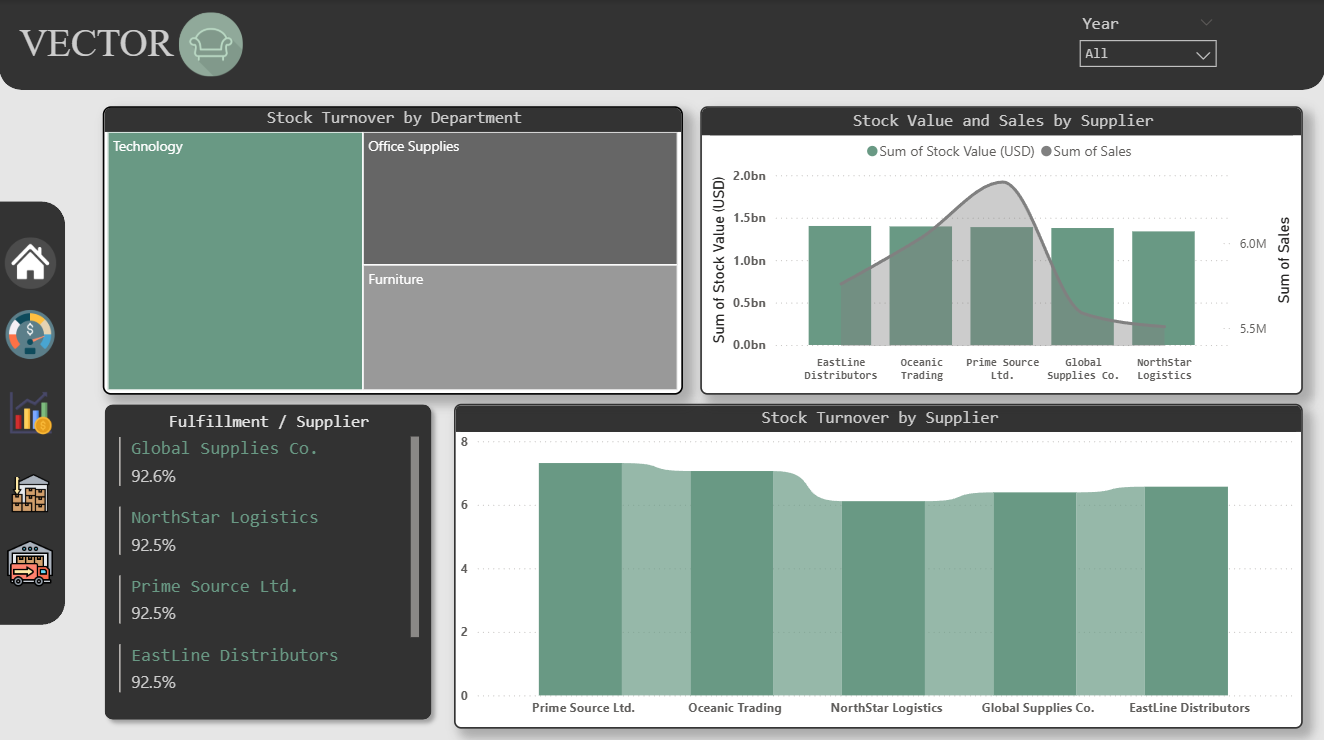

The page's visual inventory and layout, read from the dashboard file:
{"tool":"powerbi","page":{"name":"Inventory","canvas":[1280,720],"ordinal":3},"visuals":[{"type":"group","id":"g1","title":"Group 4","box":[0,0,1280,86.9],"z":0},{"type":"shape","box":[0,0,1280,86.9],"z":0,"group":"g5"},{"type":"shape","box":[0,194.2,63.9,409],"z":0,"group":"g4"},{"type":"group","id":"g2","title":"Group 3","box":[0,0,1280,86.9],"z":500,"group":"g1"},{"type":"textbox","box":[14.5,14.5,170.1,55.5],"z":1000,"group":"g5"},{"type":"image","box":[0.1,224.4,60.3,59.1],"z":1000,"group":"g4"},{"type":"shape","box":[93.3,381.5,333.4,322.5],"z":1000,"group":"g3"},{"type":"ribbonChart","title":"Stock Turnover by Supplier ","fields":{"Category":["Dim_Suppliers.Supplier Name"],"Y":["Measurments.Stock Turnover %"]},"box":[439.1,389.7,819.2,313.7],"z":1000},{"type":"lineClusteredColumnComboChart","title":"Stock Value and Sales by Supplier ","fields":{"Category":["Dim_Suppliers.Supplier Name"],"Y":["Sum(Fact_SC.Stock Value (USD))"],"Y2":["Sum(Fact_SC.Sales)"]},"box":[676.5,102.9,581.8,278.6],"z":2000},{"type":"image","box":[0.1,291.9,60.3,61.5],"z":2000,"group":"g4"},{"type":"treemap","title":"Stock Turnover by Department","fields":{"Group":["Dim_Product.Department","Dim_Product.Category"],"Values":["Measurments.Stock Turnover %"]},"box":[100.2,102.9,559.9,278.6],"z":3000},{"type":"image","box":[0.1,516.3,60.3,55.5],"z":3000,"group":"g4"},{"type":"group","id":"g3","title":"Group 5","box":[93.3,381.5,333.4,322.5],"z":4000},{"type":"image","box":[1.3,452.4,57.9,47.1],"z":4000,"group":"g4"},{"type":"group","id":"g4","title":"Group 1","box":[0,194.2,63.9,409],"z":5000},{"type":"image","box":[1.9,372.8,56.7,51.9],"z":5000,"group":"g4"},{"type":"image","box":[168.9,7.2,71.2,71.2],"z":5001,"group":"g1"},{"type":"multiRowCard","title":"Fulfillment / Supplier","fields":{"Values":["Measurments.Fulfillment Rate %","Dim_Suppliers.Supplier Name"]},"box":[111.1,398,299.1,282.7],"z":6000,"group":"g3"},{"type":"slicer","fields":{"Values":["Dim_Date.Year"]},"box":[1032.7,8.4,152,71.2],"z":8000,"group":"g1"},{"type":"group","id":"g5","title":"Group 2","box":[0,0,1280,86.9],"z":9000,"group":"g2"}]}

Visuals, with their boxes on the page's 1280x720 design canvas (x1, y1, x2, y2). These are canvas units, not pixel positions in the 1324x740 screenshot, which may show the page scaled, cropped or inside an application window:
"Group 4" group: [0, 0, 1280, 87]
shape: [0, 0, 1280, 87]
shape: [0, 194, 64, 603]
"Group 3" group: [0, 0, 1280, 87]
textbox: [14, 14, 185, 70]
image: [0, 224, 60, 284]
shape: [93, 382, 427, 704]
"Stock Turnover by Supplier " ribbonChart: [439, 390, 1258, 703]
"Stock Value and Sales by Supplier " lineClusteredColumnComboChart: [676, 103, 1258, 382]
image: [0, 292, 60, 353]
"Stock Turnover by Department" treemap: [100, 103, 660, 382]
image: [0, 516, 60, 572]
"Group 5" group: [93, 382, 427, 704]
image: [1, 452, 59, 500]
"Group 1" group: [0, 194, 64, 603]
image: [2, 373, 59, 425]
image: [169, 7, 240, 78]
"Fulfillment / Supplier" multiRowCard: [111, 398, 410, 681]
slicer - Dim_Date.Year: [1033, 8, 1185, 80]
"Group 2" group: [0, 0, 1280, 87]
